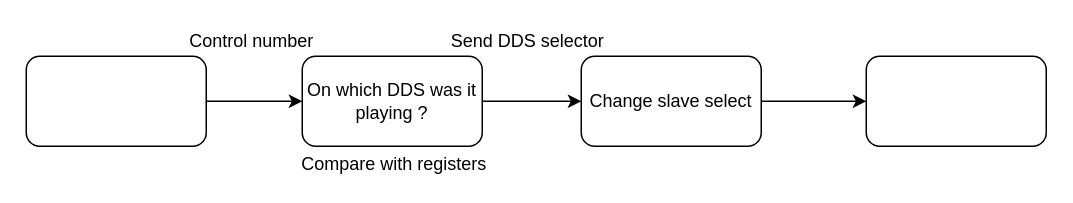
This 1073x203 diagram has some shape labels left out. The shapes that lost their labels are listed below. From the top down, each one's centre as x and y in pixels, then its label:
the point at 115,100: Knob is released
the point at 955,100: The code is sent
